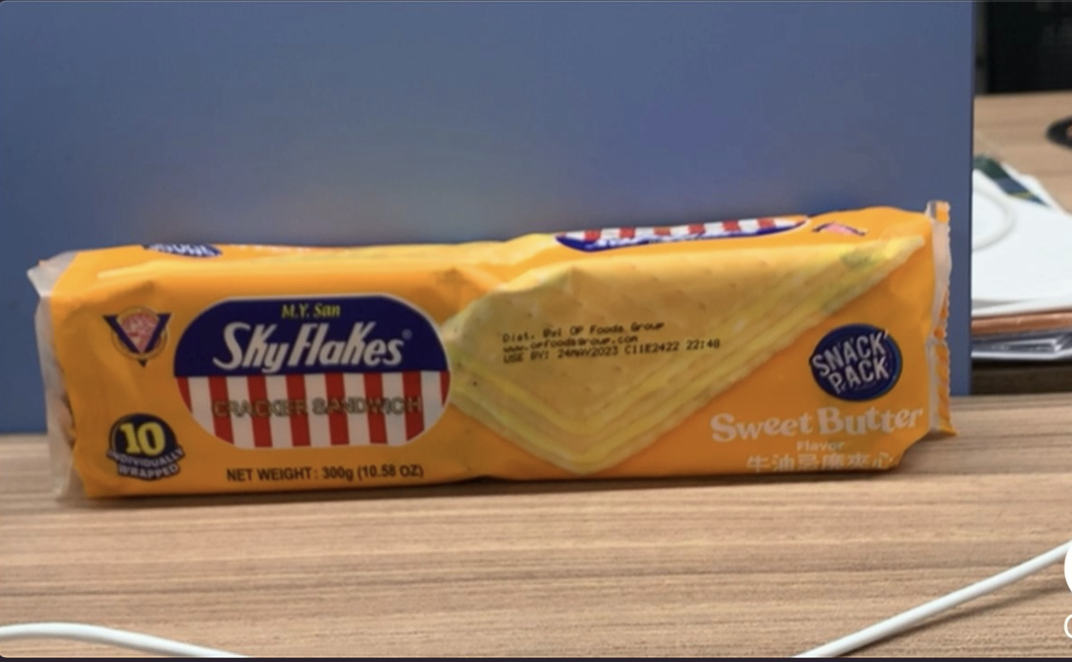crackers_300g-399g: (81, 258, 904, 469)
